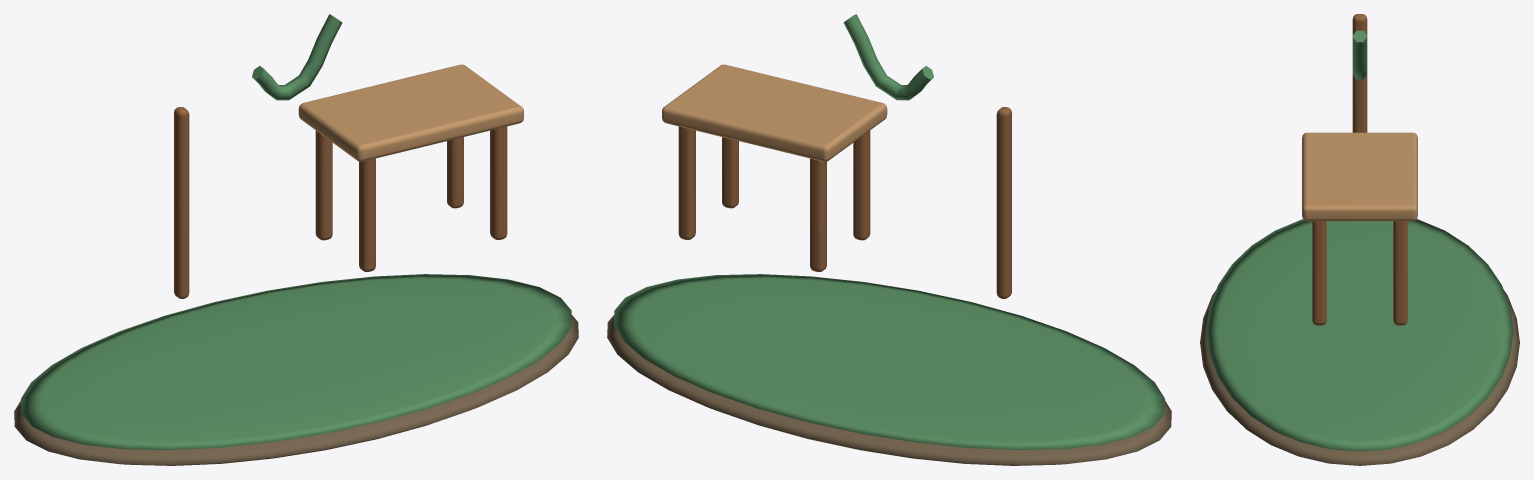
Rendered from complete-first-really-straight-table.glb.
The picture shows the model from 3 angles, left to right: view 1: azimuth 30°, elevation 25°; view 2: azimuth 150°, elevation 25°; view 3: azimuth 270°, elevation 25°; orthographic projection. The views are drawn at different scales.
Visible parts, largest first — view 1: complete-first-really-straight-table_surface_01, complete-first-really-straight-table_surface_03, complete-first-really-straight-table_surface_02, complete-first-really-straight-table_surface_00; view 2: complete-first-really-straight-table_surface_01, complete-first-really-straight-table_surface_03, complete-first-really-straight-table_surface_02, complete-first-really-straight-table_surface_00; view 3: complete-first-really-straight-table_surface_01, complete-first-really-straight-table_surface_03, complete-first-really-straight-table_surface_00, complete-first-really-straight-table_surface_02.
Part boxes in pixels (x1,y1,x2,y2): complete-first-really-straight-table_surface_01: [21, 14, 571, 450]; complete-first-really-straight-table_surface_03: [298, 64, 523, 161]; complete-first-really-straight-table_surface_02: [174, 107, 507, 298]; complete-first-really-straight-table_surface_00: [14, 315, 578, 465]; complete-first-really-straight-table_surface_01: [614, 14, 1164, 450]; complete-first-really-straight-table_surface_03: [662, 64, 887, 161]; complete-first-really-straight-table_surface_02: [678, 107, 1011, 298]; complete-first-really-straight-table_surface_00: [607, 315, 1171, 465]; complete-first-really-straight-table_surface_01: [1206, 30, 1513, 451]; complete-first-really-straight-table_surface_03: [1302, 132, 1417, 221]; complete-first-really-straight-table_surface_00: [1200, 290, 1519, 465]; complete-first-really-straight-table_surface_02: [1312, 14, 1407, 325].
Bounding box in the file's own units: 4.56 × 2.96 × 2.5.
